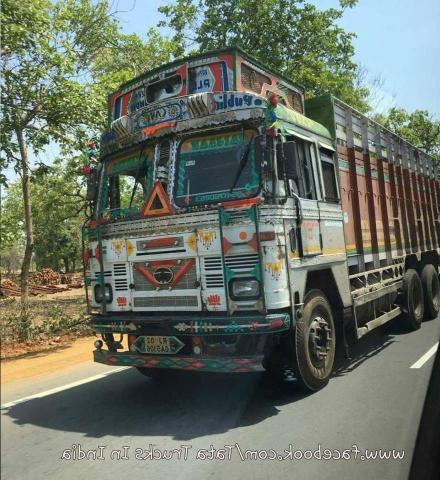truck: (73, 41, 440, 388)
